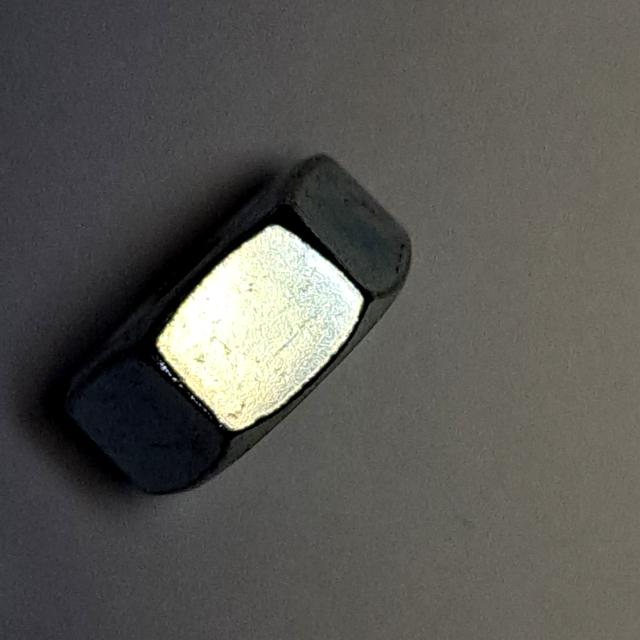Side_Excellent: (44, 137, 427, 513)
